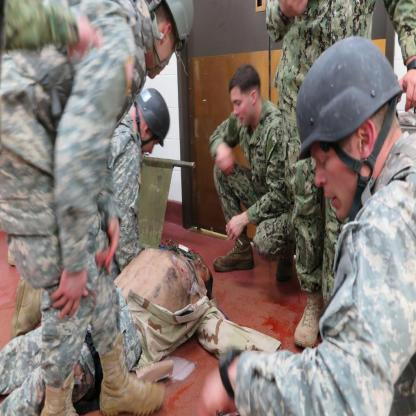Helmet: (293, 42, 410, 200), (146, 0, 194, 51), (132, 86, 168, 150)
